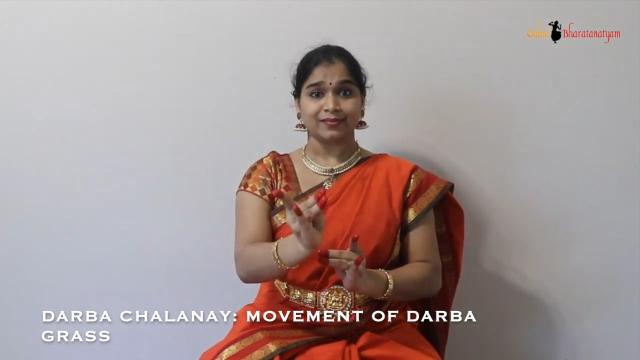sinhamukh: (259, 172, 339, 258)
